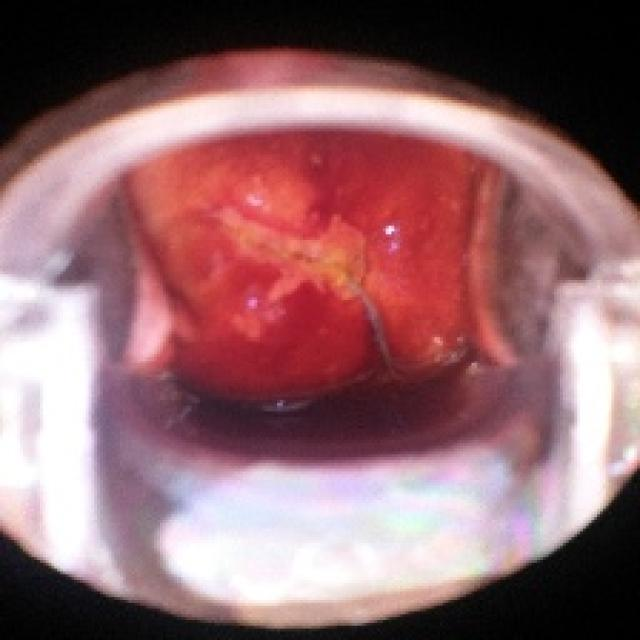type-2: (70, 107, 524, 480)
